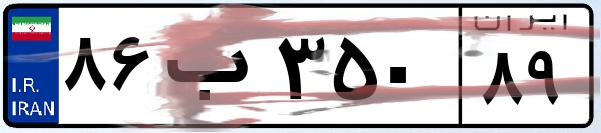0: (385, 28, 445, 110)
3: (270, 28, 330, 110)
5: (330, 28, 385, 110)
6: (110, 28, 158, 98)
8: (57, 26, 110, 100), (475, 38, 525, 113)
9: (525, 38, 570, 115)
ب: (158, 20, 270, 120)
